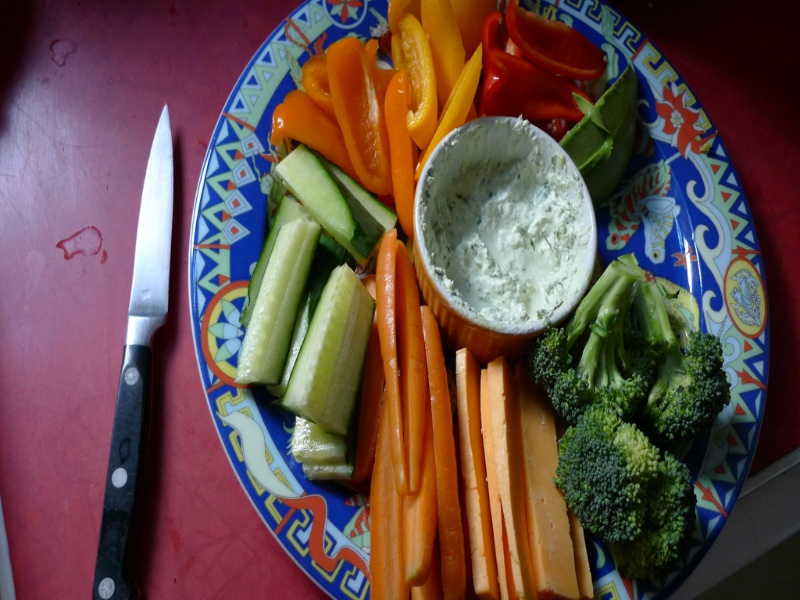knife: (90, 97, 176, 600)
